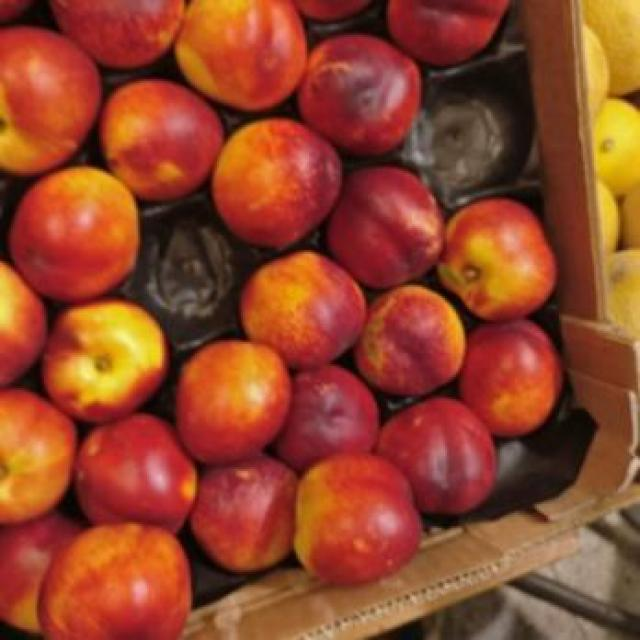Nectarine: (11, 164, 151, 298), (296, 452, 416, 590), (35, 302, 173, 419), (442, 198, 568, 326), (210, 125, 344, 245), (177, 331, 290, 465), (241, 254, 371, 362)
